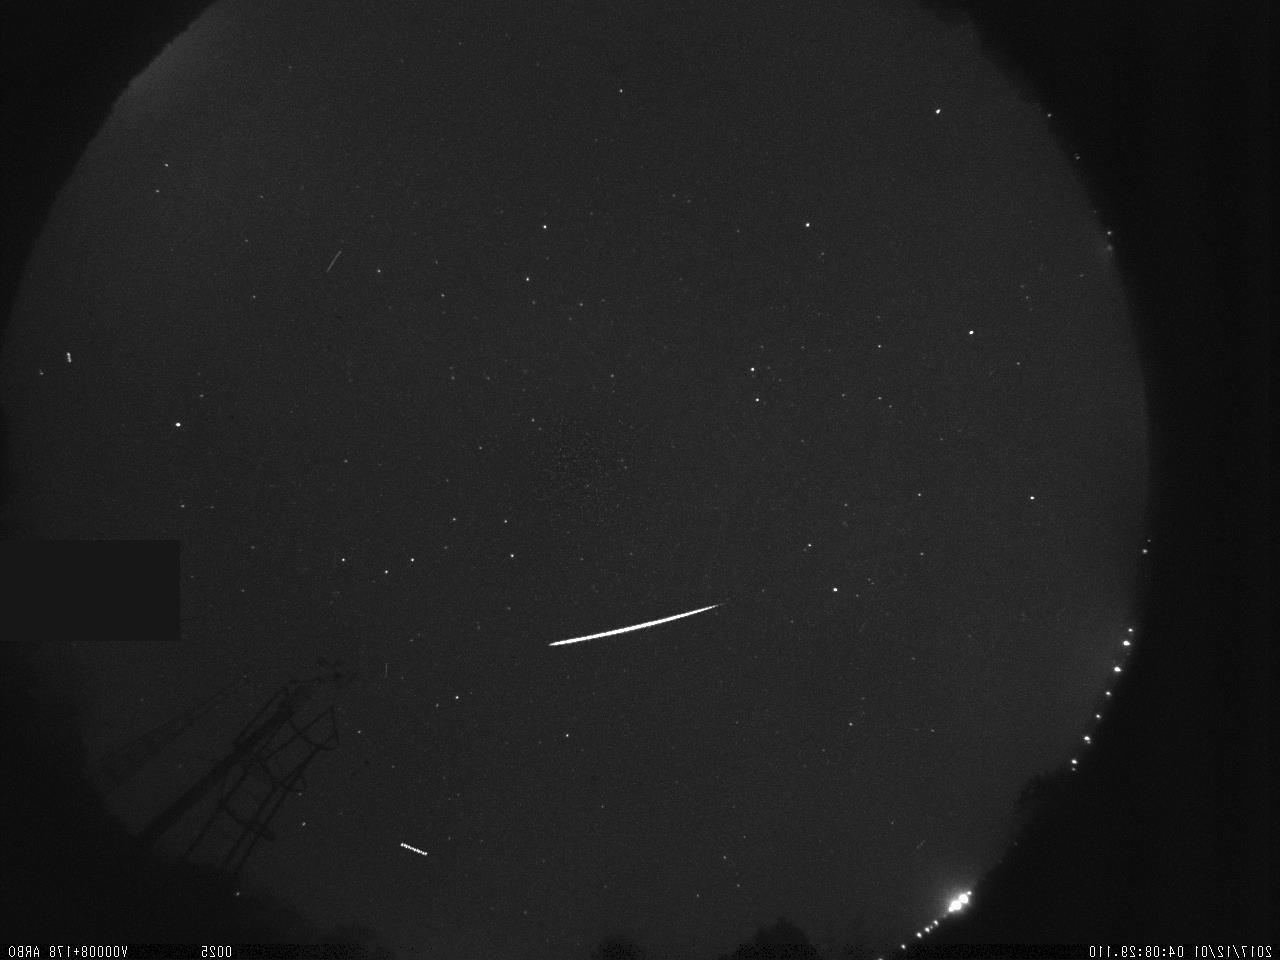meteor: (541, 594, 728, 659)
satelite: (387, 835, 437, 860)
